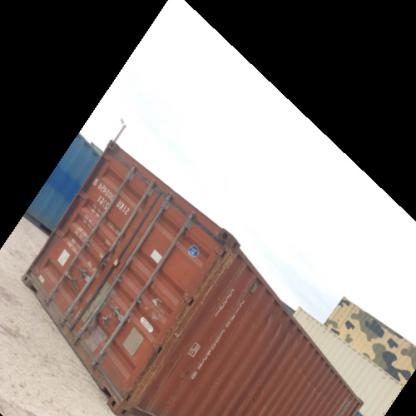Damage: (193, 242, 236, 310), (125, 344, 163, 404), (84, 279, 112, 359), (296, 356, 340, 402), (252, 311, 295, 346), (145, 297, 165, 321)
